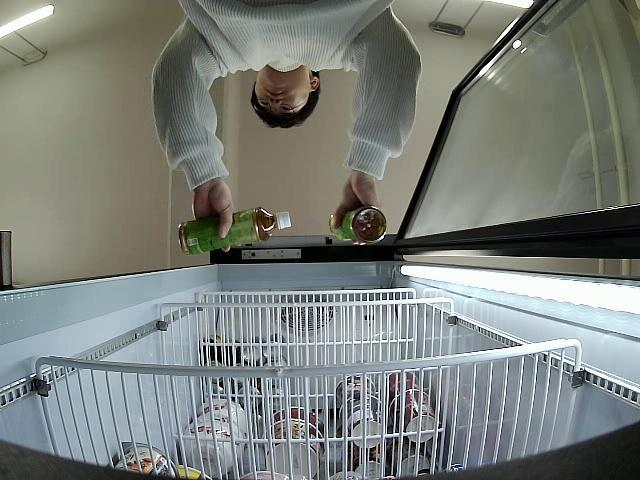19_17cha: (178, 208, 294, 256), (328, 208, 388, 244)
